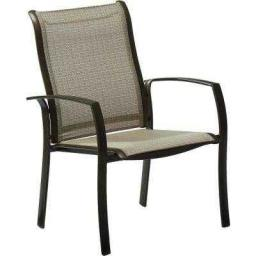Chair: (26, 1, 231, 256)
